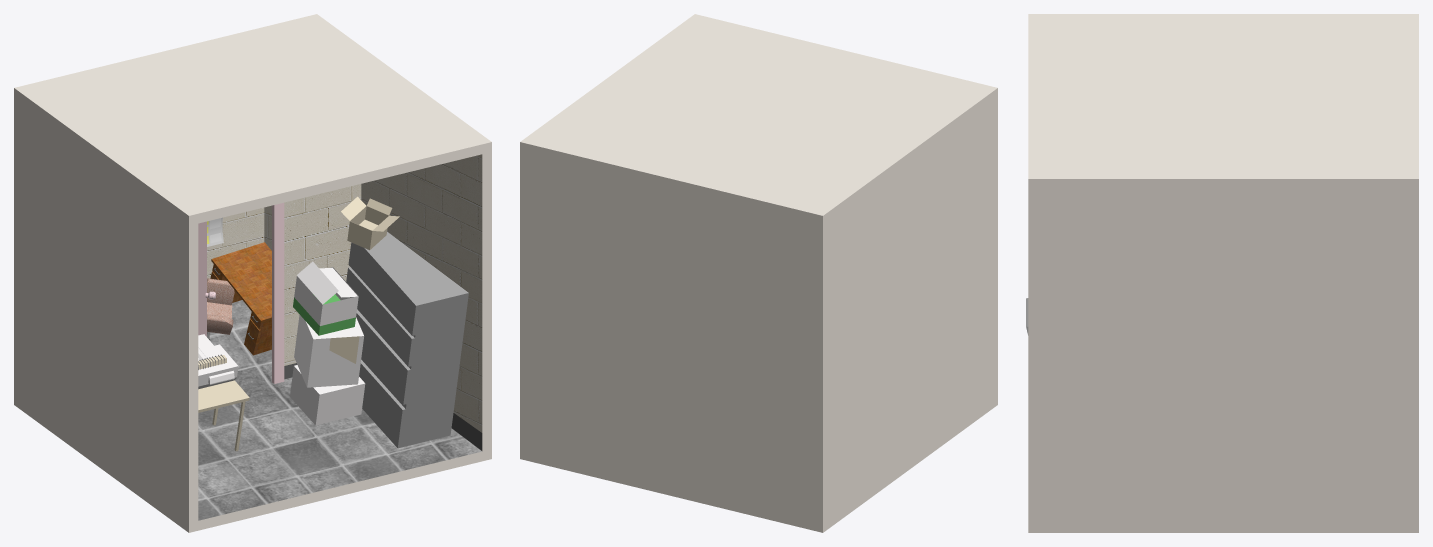
File: environment5.gltf
The picture shows the model from 3 angles, left to right: view 1: azimuth 30°, elevation 25°; view 2: azimuth 150°, elevation 25°; view 3: azimuth 270°, elevation 25°; orthographic projection. The views are drawn at different scales.
Visible parts, largest first — view 1: group_1, SketchUp, group_1.001, group_1.002, group_9, group_18, group_5, group_4, group_11.002, group_1.006, group_11.001, group_10 (+9 smaller); view 2: SketchUp, group_1; view 3: SketchUp, group_1.
Part boxes in pixels (x1,y1,x2,y2): group_1: (14, 14, 491, 532); SketchUp: (14, 88, 188, 532); group_1.001: (284, 154, 482, 432); group_1.002: (198, 377, 481, 520); group_9: (346, 231, 468, 448); group_18: (210, 242, 271, 354); group_5: (294, 315, 364, 387); group_4: (290, 365, 365, 425); group_11.002: (209, 300, 271, 389); group_1.006: (272, 202, 284, 383); group_11.001: (207, 205, 271, 278); group_10: (341, 196, 399, 250); SketchUp: (520, 88, 997, 532); group_1: (520, 14, 997, 215); SketchUp: (1028, 179, 1418, 532); group_1: (1028, 14, 1418, 178).
Size of the model in its own units: 6.5 by 6.5 by 6.54.
19 materials, 6 textured.
